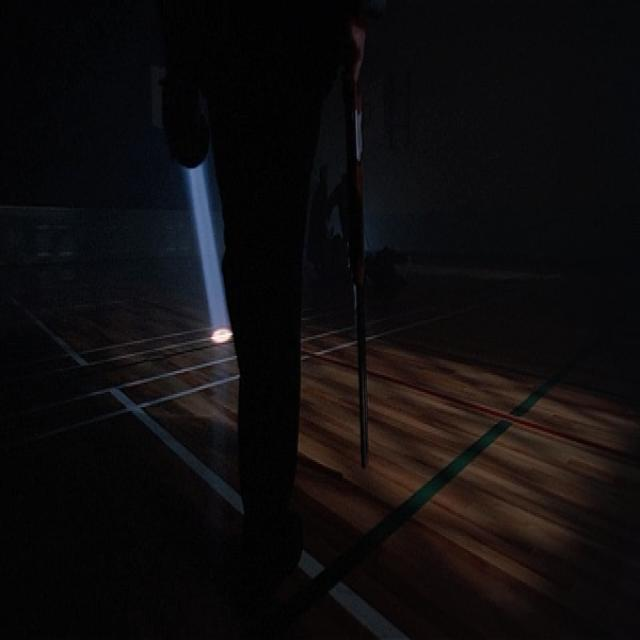rifle: (348, 60, 378, 471)
